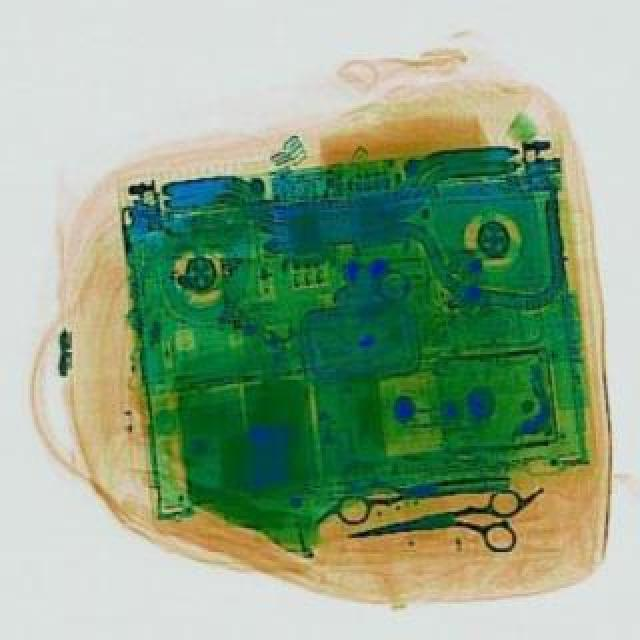pliers: (346, 486, 528, 566), (334, 446, 514, 524)
